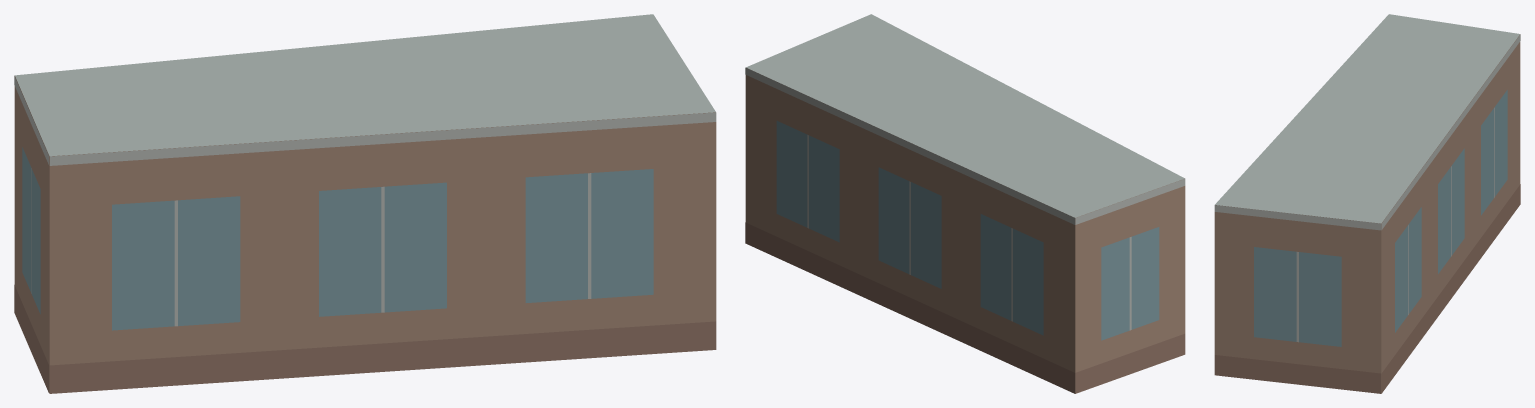
Rendered from survey-upis-32502903.glb.
3 renders of one model, left to right at view 1: azimuth 30°, elevation 25°; view 2: azimuth 150°, elevation 25°; view 3: azimuth 270°, elevation 25°, orthographic. The views are drawn at different scales.
Parts seen in each view (by area): view 1: survey-upis-32502903.tmp; view 2: survey-upis-32502903.tmp; view 3: survey-upis-32502903.tmp.
Part boxes in pixels (x1=…): survey-upis-32502903.tmp: x1=14, y1=14, x2=716, y2=393; survey-upis-32502903.tmp: x1=745, y1=14, x2=1185, y2=393; survey-upis-32502903.tmp: x1=1214, y1=14, x2=1520, y2=393.
Bounding box in the file's own units: 10.3 × 3.9 × 6.36.
